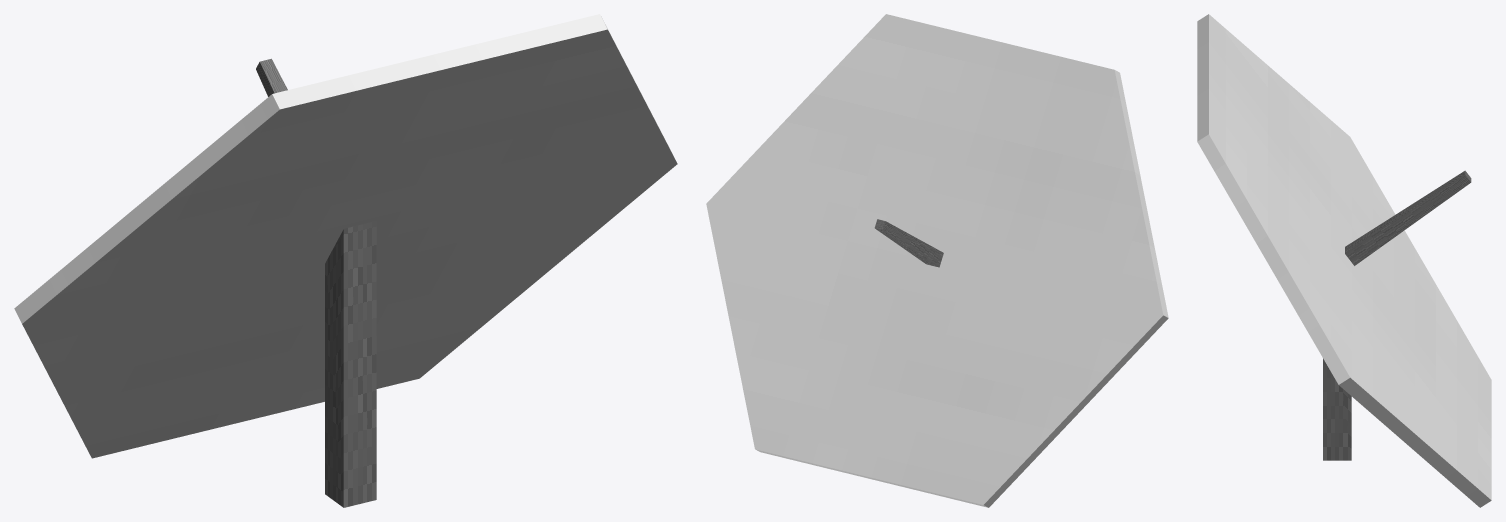
File: antenna_dish.obj
The picture shows the model from 3 angles, left to right: view 1: azimuth 30°, elevation 25°; view 2: azimuth 150°, elevation 25°; view 3: azimuth 270°, elevation 25°; orthographic projection. The views are drawn at different scales.
Parts seen in each view (by area): view 1: Cube; view 2: Cube; view 3: Cube.
Part boxes in pixels (left/top/right/bottom): Cube: left=14, top=14, right=677, bottom=507; Cube: left=706, top=14, right=1168, bottom=507; Cube: left=1197, top=14, right=1491, bottom=507.
Size of the model in its own units: 2 by 1.47 by 1.03.
